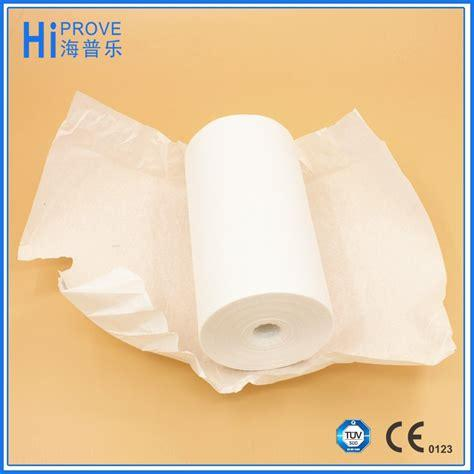gauze: (139, 90, 367, 380)
